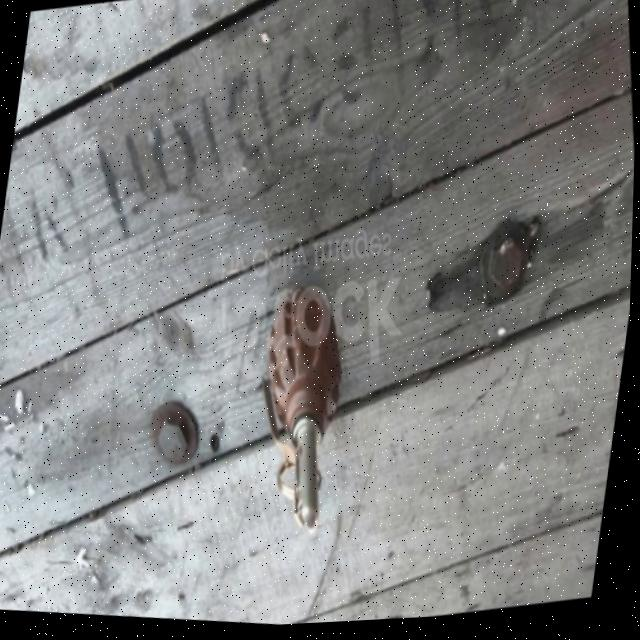grenade: (228, 270, 389, 555)
